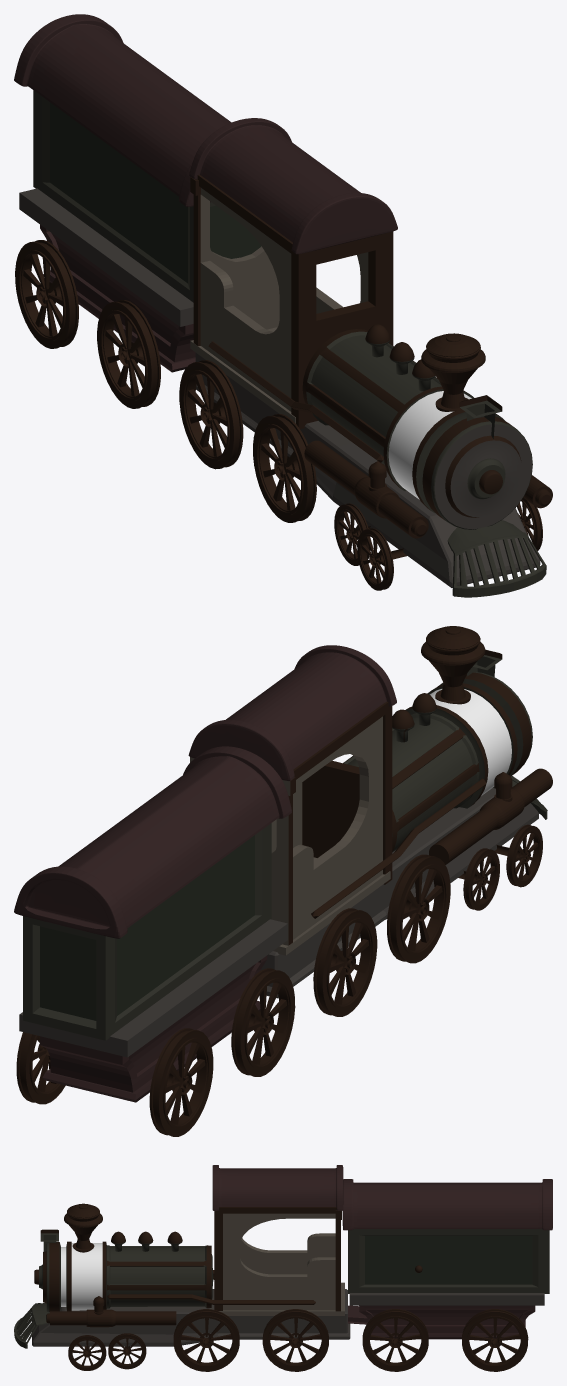
Rendered from MAPTRAIN.fbx.
3 renders of one model, top to bottom at view 1: azimuth 30°, elevation 25°; view 2: azimuth 150°, elevation 25°; view 3: azimuth 270°, elevation 25°, orthographic. The views are drawn at different scales.
Parts seen in each view (by area): view 1: Cube.006, Cube.017; view 2: Cube.006, Cube.017; view 3: Cube.006, Cube.017.
Boxes of the visible parts, x1,y1,x2,y2 form: Cube.006: (179,118,552,597); Cube.017: (14,14,261,408); Cube.006: (188,626,552,1016); Cube.017: (14,746,295,1136); Cube.006: (14,1165,350,1371); Cube.017: (342,1179,552,1371).
Bounding box in the file's own units: 379 × 691 × 1858.
